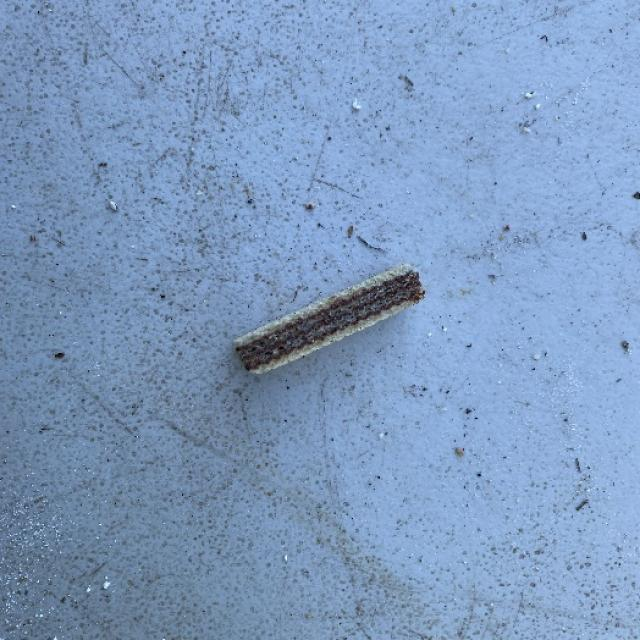organik: (232, 266, 424, 379)
